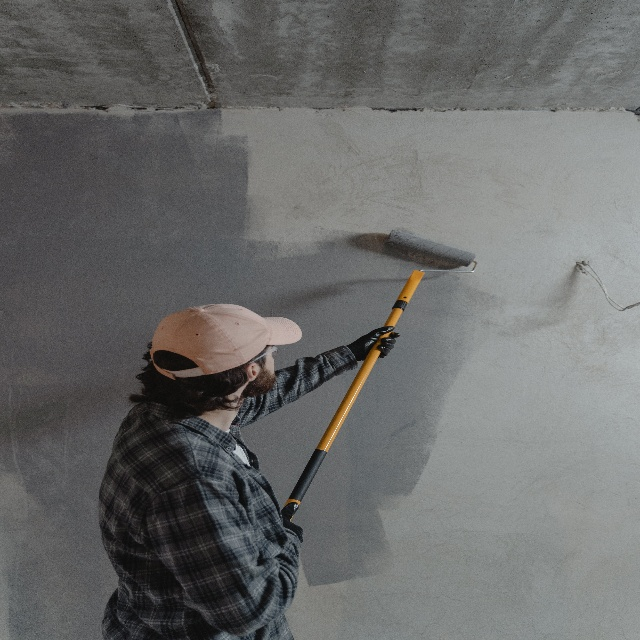Guantes: (349, 329, 398, 358), (284, 501, 303, 538)
